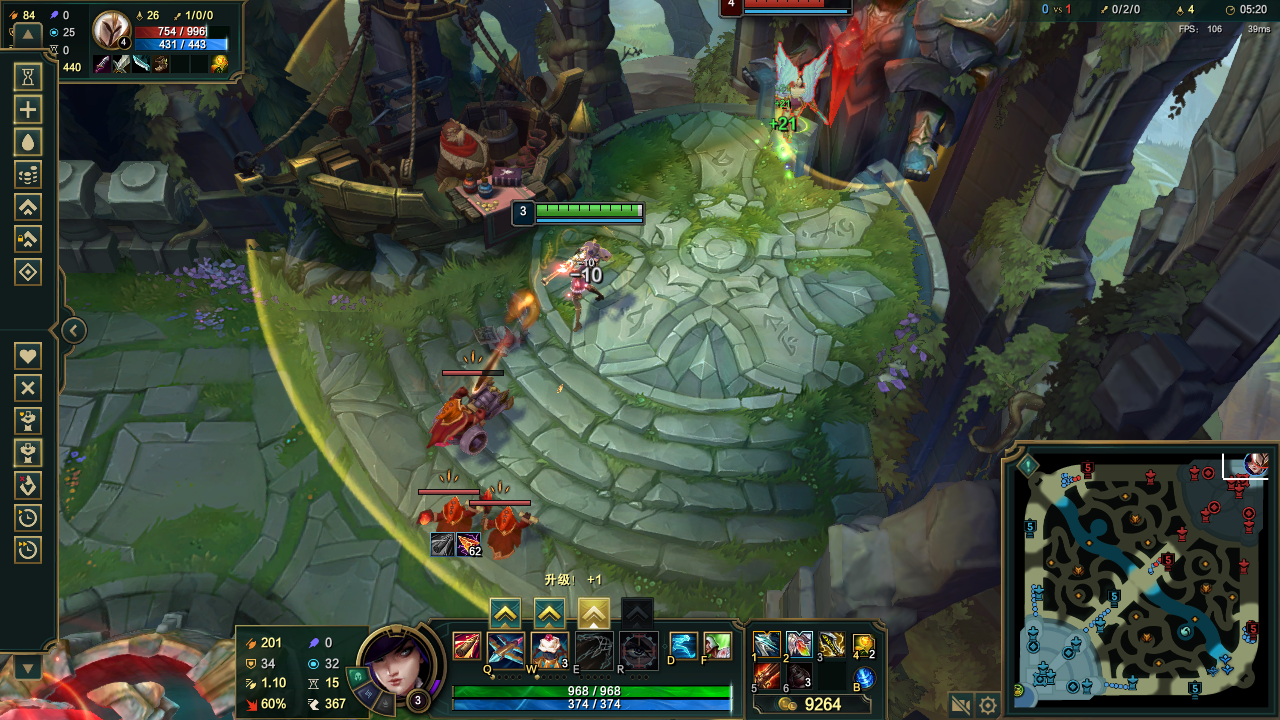DFYX: (745, 1, 852, 9)
